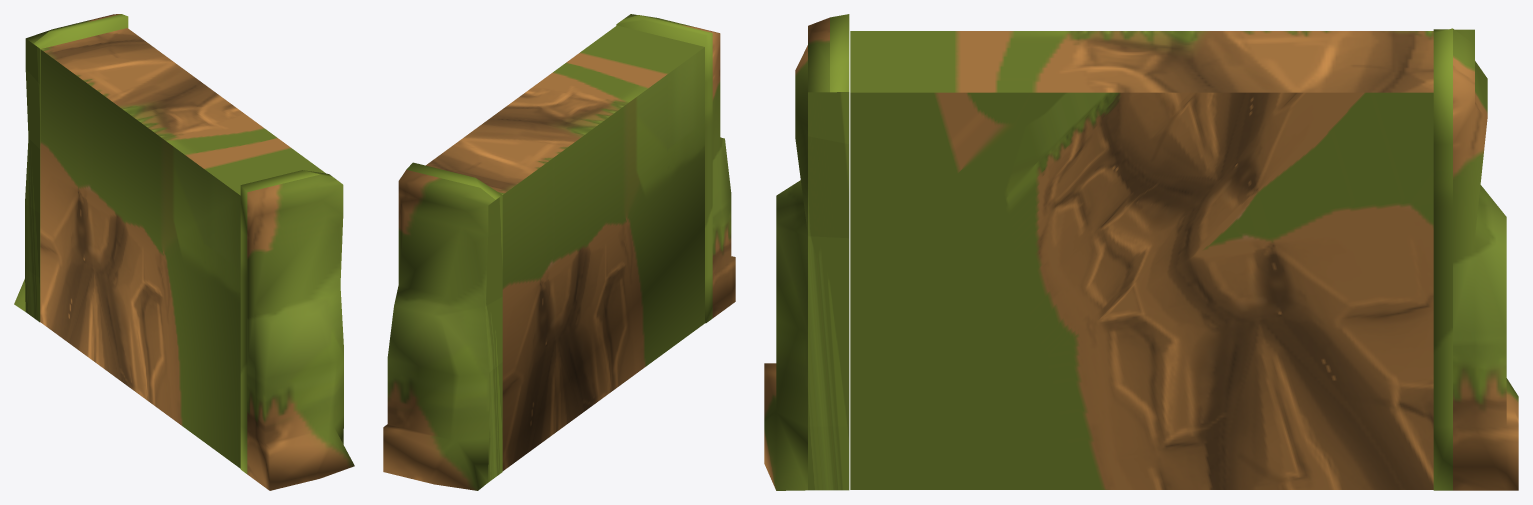
File: R4YL_PROP_ground_small.FBX
The picture shows the model from 3 angles, left to right: view 1: azimuth 30°, elevation 25°; view 2: azimuth 150°, elevation 25°; view 3: azimuth 270°, elevation 25°; orthographic projection. The views are drawn at different scales.
Parts seen in each view (by area): view 1: R4YL_PROP_ground; view 2: R4YL_PROP_ground; view 3: R4YL_PROP_ground.
Part boxes in pixels (<box>): R4YL_PROP_ground: <box>14,14,354,490</box>; R4YL_PROP_ground: <box>383,14,735,490</box>; R4YL_PROP_ground: <box>764,14,1518,490</box>.
Bounding box in the file's own units: 1.03 × 3.13 × 5.17.
Materials: 1 (1 with a texture image).
